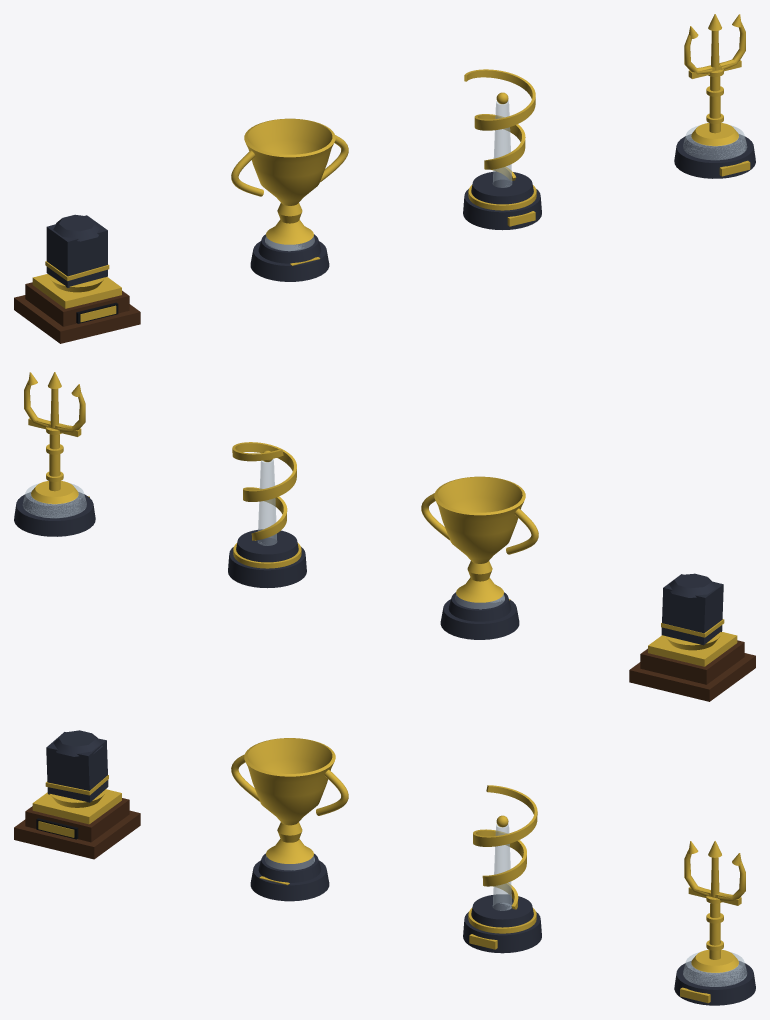
Rendered from trophies_pack.glb.
The picture shows the model from 3 angles, top to bottom: view 1: azimuth 30°, elevation 25°; view 2: azimuth 150°, elevation 25°; view 3: azimuth 330°, elevation 25°; orthographic projection.
Parts seen in each view (by area): view 1: Trophy_Grand_Tour_Cup, Trophy_Cobble_Monument, Trophy_Infinity_Spiral, Trophy_Tyrrhenian_Trident; view 2: Trophy_Grand_Tour_Cup, Trophy_Cobble_Monument, Trophy_Infinity_Spiral, Trophy_Tyrrhenian_Trident; view 3: Trophy_Grand_Tour_Cup, Trophy_Cobble_Monument, Trophy_Infinity_Spiral, Trophy_Tyrrhenian_Trident.
Boxes of the visible parts, left/top/right/bottom form: Trophy_Grand_Tour_Cup: left=231, top=118, right=348, bottom=281; Trophy_Cobble_Monument: left=14, top=214, right=140, bottom=343; Trophy_Infinity_Spiral: left=463, top=69, right=541, bottom=230; Trophy_Tyrrhenian_Trident: left=674, top=14, right=755, bottom=178; Trophy_Grand_Tour_Cup: left=421, top=476, right=538, bottom=639; Trophy_Cobble_Monument: left=629, top=573, right=755, bottom=701; Trophy_Infinity_Spiral: left=228, top=442, right=306, bottom=588; Trophy_Tyrrhenian_Trident: left=14, top=372, right=95, bottom=536; Trophy_Grand_Tour_Cup: left=231, top=738, right=348, bottom=901; Trophy_Cobble_Monument: left=14, top=730, right=140, bottom=859; Trophy_Infinity_Spiral: left=463, top=785, right=541, bottom=953; Trophy_Tyrrhenian_Trident: left=674, top=841, right=755, bottom=1005.
Size of the model in its own units: 3.02 by 0.596 by 0.34.
